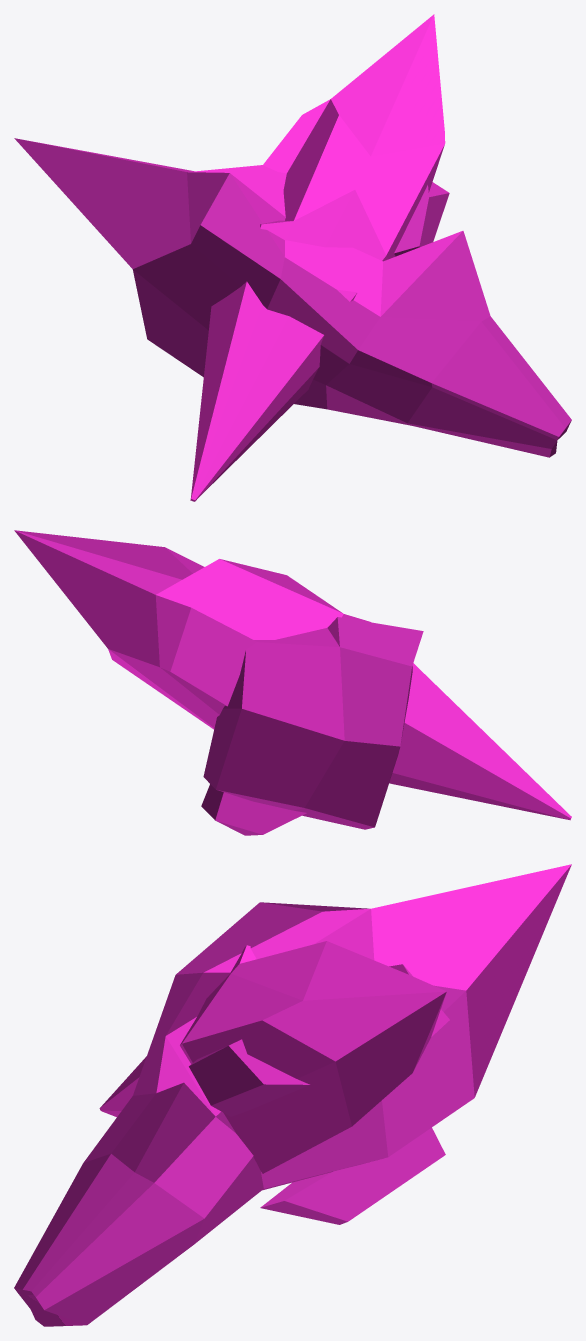
File: CrystalPickable.fbx
3 views of the same model, one above another, from view 1: azimuth 30°, elevation 25°; view 2: azimuth 150°, elevation 25°; view 3: azimuth 270°, elevation 25° (orthographic). The views are drawn at different scales.
Parts seen in each view (by area): view 1: CrystalPickable; view 2: CrystalPickable; view 3: CrystalPickable.
Boxes of the visible parts, bbox=[...] form: CrystalPickable: bbox=[14, 14, 571, 501]; CrystalPickable: bbox=[14, 530, 571, 835]; CrystalPickable: bbox=[14, 864, 571, 1326].
Size of the model in its own units: 197 by 148 by 206.
